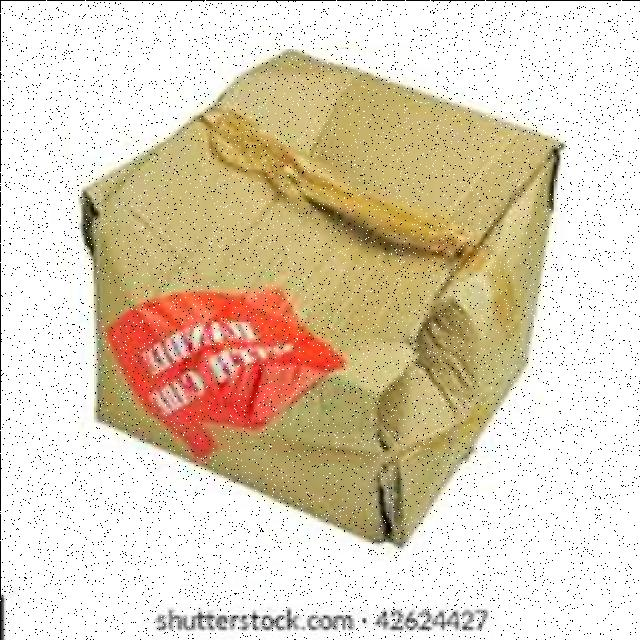defect: (68, 48, 566, 560)
